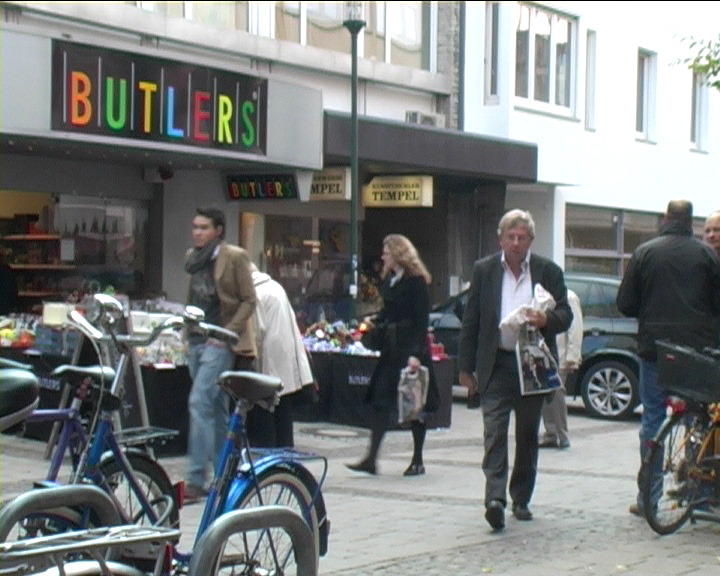undeflect: (480, 214, 564, 305), (181, 207, 258, 283)
